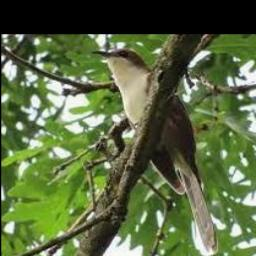Cuckoo: (92, 50, 219, 252)
